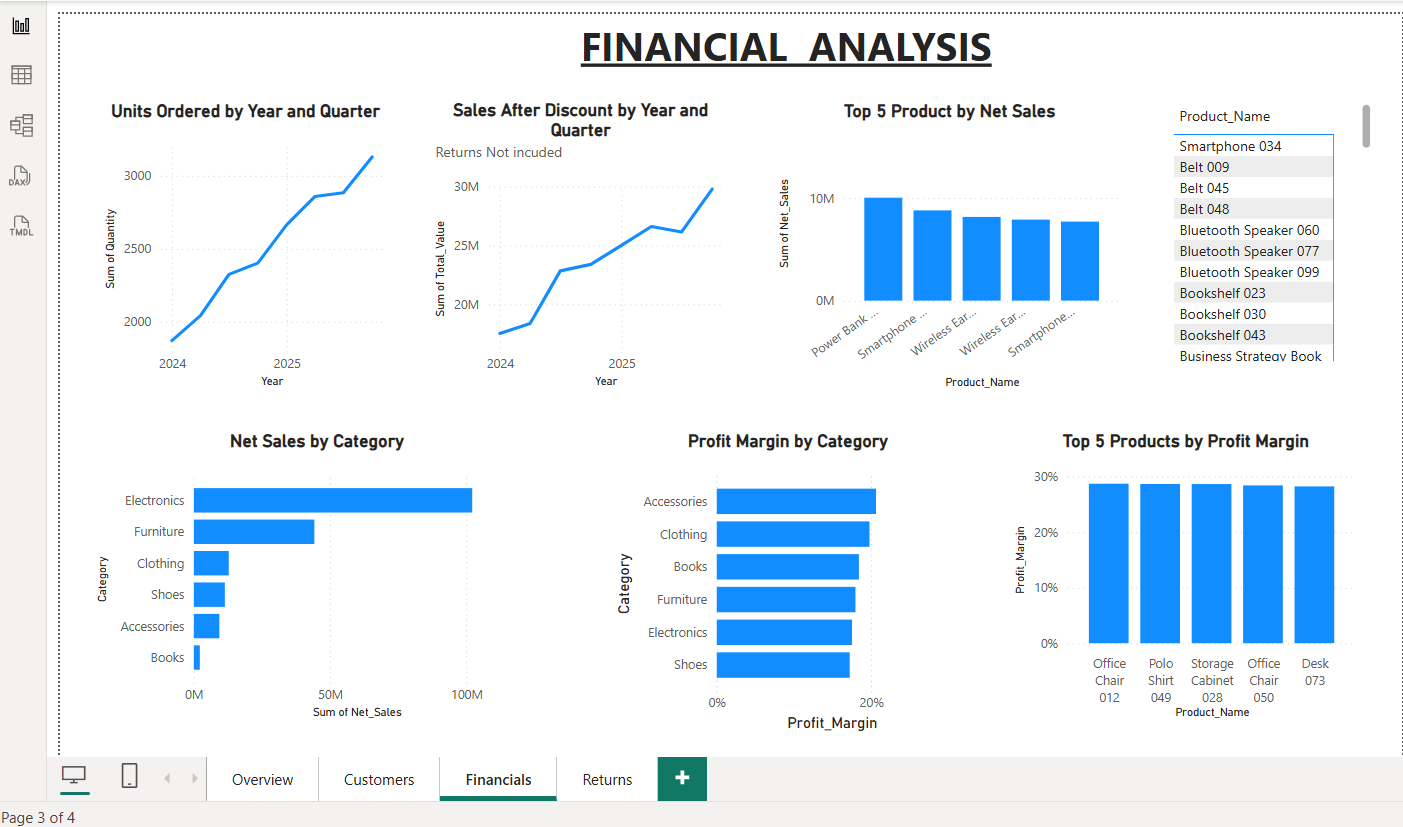

Layout of this report page (visuals, bound fields, positions):
{"tool":"powerbi","page":{"name":"Financials","canvas":[1280,720],"ordinal":2},"visuals":[{"type":"lineChart","title":"Units Ordered by Year and Quarter","fields":{"Y":["Sum(Product_Order_Detail.Quantity)"],"Category":["Product_Order_Detail.Order_Date.Variation.Date Hierarchy.Year","Product_Order_Detail.Order_Date.Variation.Date Hierarchy.Quarter"]},"box":[38.1,82.2,277.7,278.9],"z":0},{"type":"barChart","title":"Net Sales by Category","fields":{"Category":["Products.Category"],"Y":["Sum(Product_Order_Detail.Net_Sales)"]},"box":[29.8,396.9,430.7,279.9],"z":1000},{"type":"columnChart","title":"Top 5 Product by Net Sales","fields":{"Category":["Products.Product_Name"],"Y":["Sum(Product_Order_Detail.Net_Sales)"]},"box":[680.6,82.2,335.4,279.9],"z":2000},{"type":"lineChart","title":"Sales After Discount  by Year and Quarter","fields":{"Category":["Product_Order_Detail.Order_Date.Variation.Date Hierarchy.Year","Product_Order_Detail.Order_Date.Variation.Date Hierarchy.Quarter"],"Y":["Sum(Product_Order_Detail.Total_Value)"]},"box":[352.8,81.1,287.3,280.1],"z":3000},{"type":"barChart","title":"Profit Margin by Category","fields":{"Category":["Products.Category"],"Y":["Product_Summary.Profit_Margin"]},"box":[524.5,396.9,339.7,292],"z":4000},{"type":"columnChart","title":"Top 5 Products by Profit Margin","fields":{"Y":["Product_Summary.Profit_Margin"],"Category":["Products.Product_Name"]},"box":[905.9,396.9,335.4,279.9],"z":5000},{"type":"pivotTable","fields":{"Rows":["Products.Product_Name"]},"box":[1057.3,81.1,197.9,255.1],"z":6000},{"type":"textbox","box":[436.3,0,512.6,60.8],"z":7000}]}

Visuals, with their boxes on the page's 1280x720 design canvas (x1, y1, x2, y2). These are canvas units, not pixel positions in the 1403x827 screenshot, which may show the page scaled, cropped or inside an application window:
"Units Ordered by Year and Quarter" lineChart: BBox(38, 82, 316, 361)
"Net Sales by Category" barChart: BBox(30, 397, 460, 677)
"Top 5 Product by Net Sales" columnChart: BBox(681, 82, 1016, 362)
"Sales After Discount  by Year and Quarter" lineChart: BBox(353, 81, 640, 361)
"Profit Margin by Category" barChart: BBox(524, 397, 864, 689)
"Top 5 Products by Profit Margin" columnChart: BBox(906, 397, 1241, 677)
pivotTable - Products.Product_Name: BBox(1057, 81, 1255, 336)
textbox: BBox(436, 0, 949, 61)
